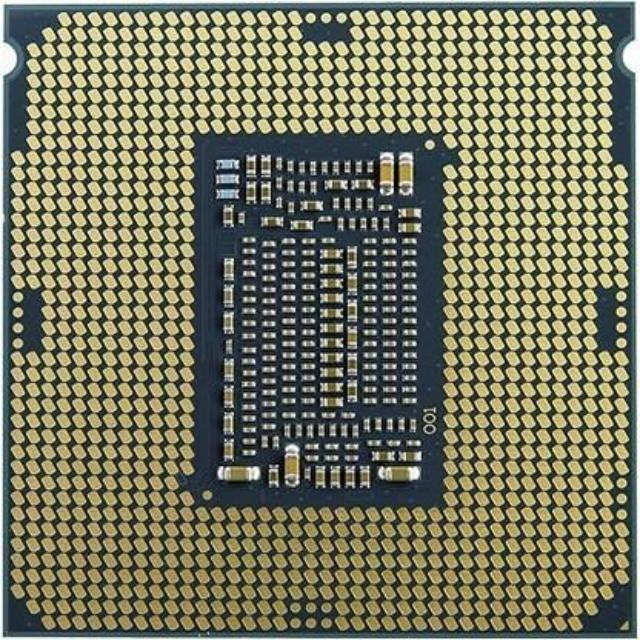CPU: (8, 8, 630, 634)
